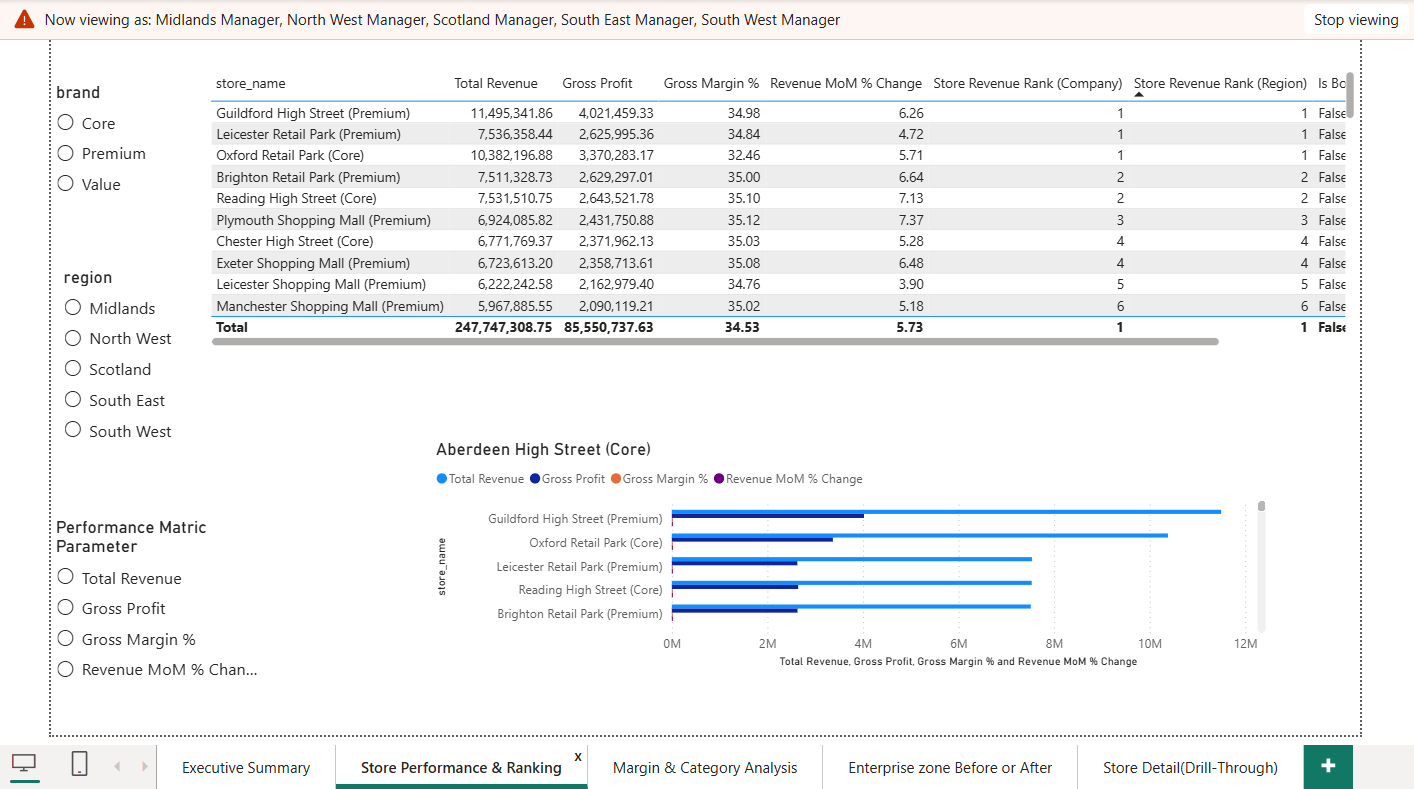

The page's visual inventory and layout, read from the dashboard file:
{"tool":"powerbi","page":{"name":"Store Performance & Ranking","canvas":[1280,720],"ordinal":1},"visuals":[{"type":"textbox","box":[20,18.6,410,62.9],"z":0},{"type":"tableEx","fields":{"Values":["Stores.store_name","Table.Total Revenue","Table.Gross Profit","Table.Gross Margin %","Table.Revenue MoM % Change","Table.Store Revenue Rank (Company)","Table.Store Revenue Rank (Region)","Table.Is Bottom Quartile (Region)"]},"box":[150.4,66,1129.9,278.8],"z":1000},{"type":"listSlicer","fields":{"Values":["Performance Matric Parameter.Performance Matric Parameter"]},"box":[0,506.3,210.3,214],"z":2000},{"type":"listSlicer","fields":{"Values":["Stores.region"]},"box":[7.3,261.7,143.1,196.9],"z":3000},{"type":"listSlicer","fields":{"Values":["Stores.brand"]},"box":[0,80.7,113.7,150.4],"z":4000},{"type":"actionButton","box":[0,0,100,40],"z":5000},{"type":"clusteredBarChart","fields":{"Y":["Table.Total Revenue","Table.Gross Profit","Table.Gross Margin %","Table.Revenue MoM % Change"],"Category":["Stores.store_name"]},"box":[371.7,430.4,821.7,228.7],"z":6000}]}

Visuals, with their boxes on the page's 1280x720 design canvas (x1, y1, x2, y2). These are canvas units, not pixel positions in the 1414x789 screenshot, which may show the page scaled, cropped or inside an application window:
textbox: x1=20, y1=19, x2=430, y2=82
tableEx - Stores.store_name x Table.Total Revenue: x1=150, y1=66, x2=1280, y2=345
listSlicer - Performance Matric Parameter.Performance Matric Parameter: x1=0, y1=506, x2=210, y2=720
listSlicer - Stores.region: x1=7, y1=262, x2=150, y2=459
listSlicer - Stores.brand: x1=0, y1=81, x2=114, y2=231
actionButton: x1=0, y1=0, x2=100, y2=40
clusteredBarChart - Table.Total Revenue x Table.Gross Profit: x1=372, y1=430, x2=1193, y2=659
